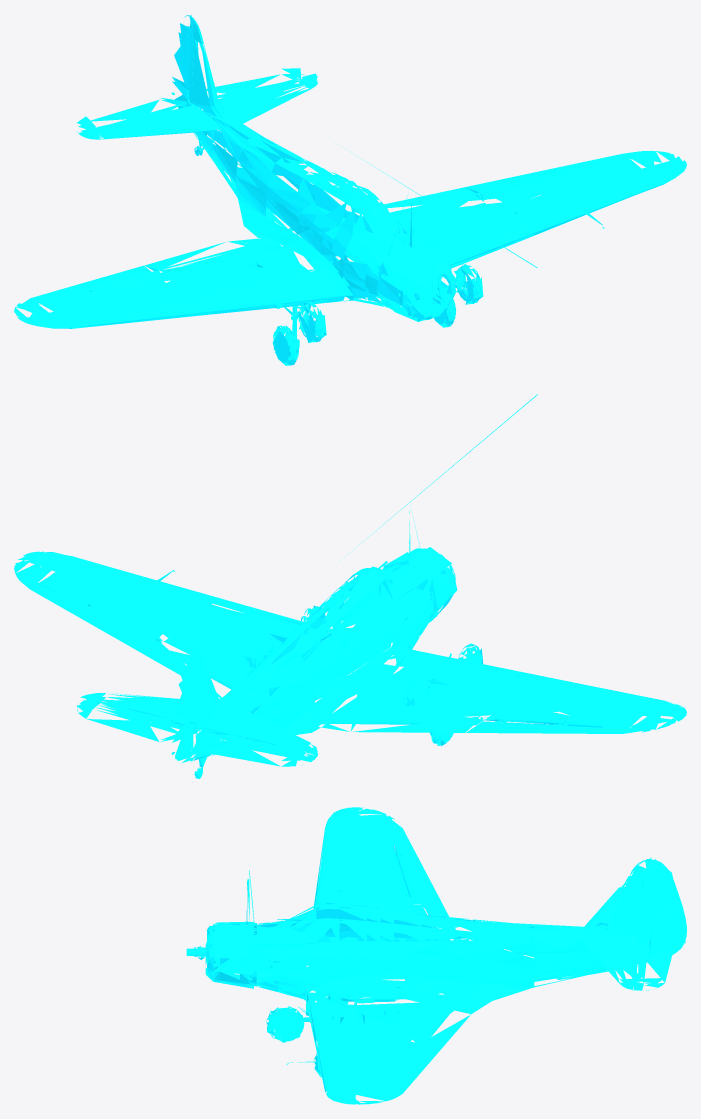
Rendered from PAAB538.glb.
3 renders of one model, top to bottom at view 1: azimuth 30°, elevation 25°; view 2: azimuth 150°, elevation 25°; view 3: azimuth 270°, elevation 25°, orthographic. The views are drawn at different scales.
Visible parts, largest first — view 1: misc; view 2: misc; view 3: misc.
Part boxes in pixels (x1=…): misc: x1=14, y1=15, x2=686, y2=365; misc: x1=14, y1=394, x2=686, y2=778; misc: x1=186, y1=807, x2=686, y2=1104.
Bounding box in the file's own units: 1.02 × 0.2994 × 0.9718.
